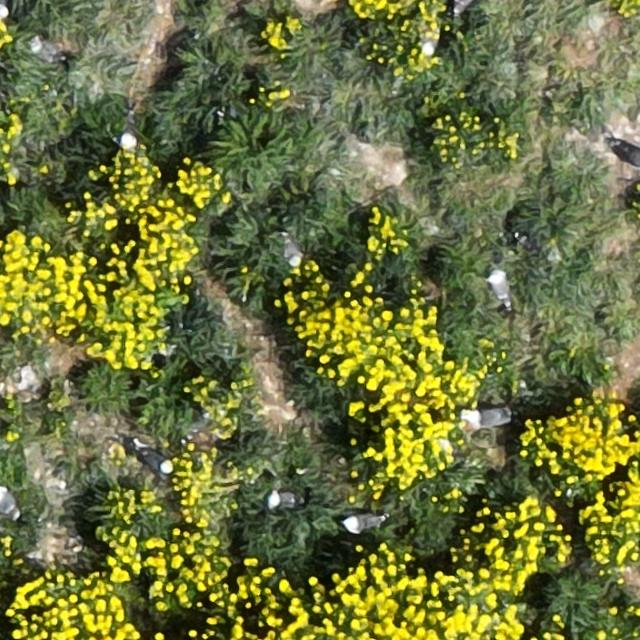umineko: (464, 408, 510, 427), (139, 447, 171, 474), (343, 513, 380, 532), (32, 41, 64, 62), (491, 272, 511, 305), (1, 488, 19, 519), (120, 118, 138, 149), (616, 145, 640, 167), (267, 492, 296, 510), (284, 237, 302, 265), (454, 0, 477, 10), (0, 0, 7, 16)
